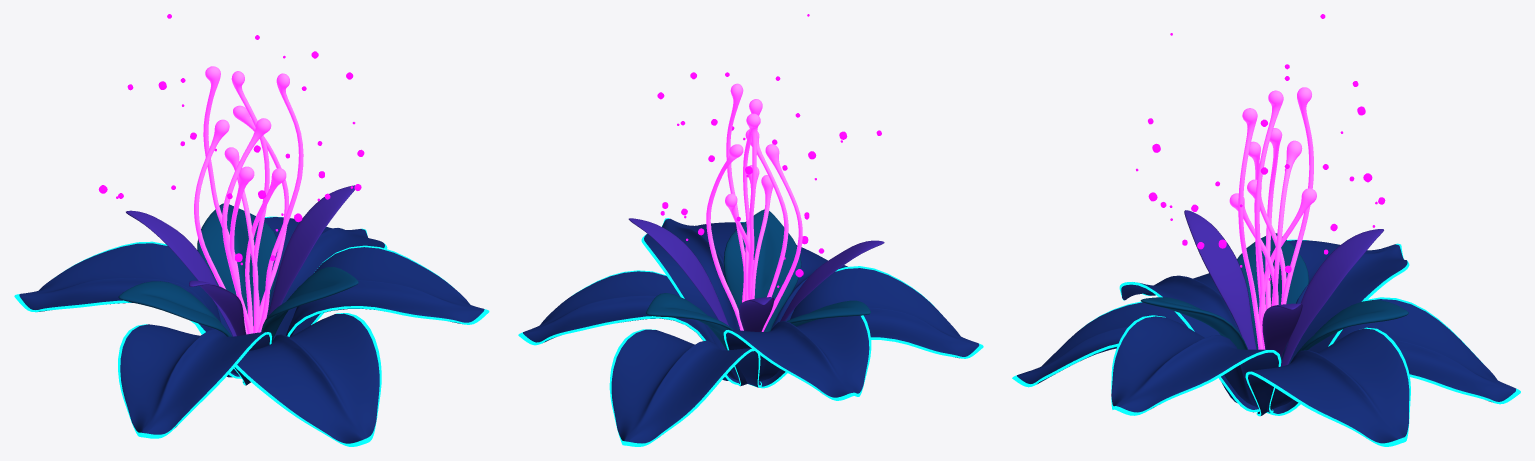
Rendered from glowing_flower.glb.
The picture shows the model from 3 angles, left to right: view 1: azimuth 30°, elevation 25°; view 2: azimuth 150°, elevation 25°; view 3: azimuth 270°, elevation 25°; orthographic projection. The views are drawn at different scales.
Parts seen in each view (by area): view 1: Plane_Material.004_0, Vert.001_Material.001_0, Plane_Material.005_0, Sphere.003; view 2: Plane_Material.004_0, Vert.001_Material.001_0, Plane_Material.005_0, Sphere.003; view 3: Plane_Material.004_0, Vert.001_Material.001_0, Plane_Material.005_0, Sphere.003.
Boxes of the visible parts, x1=… form: Plane_Material.004_0: x1=19, y1=185, x2=484, y2=443; Vert.001_Material.001_0: x1=194, y1=66, x2=303, y2=334; Plane_Material.005_0: x1=14, y1=216, x2=489, y2=446; Sphere.003: x1=98, y1=14, x2=364, y2=265; Plane_Material.004_0: x1=523, y1=209, x2=979, y2=443; Vert.001_Material.001_0: x1=706, y1=83, x2=802, y2=331; Plane_Material.005_0: x1=518, y1=218, x2=983, y2=446; Sphere.003: x1=657, y1=14, x2=881, y2=287; Plane_Material.004_0: x1=1017, y1=210, x2=1515, y2=443; Vert.001_Material.001_0: x1=1229, y1=87, x2=1316, y2=349; Plane_Material.005_0: x1=1012, y1=239, x2=1520, y2=446; Sphere.003: x1=1136, y1=14, x2=1385, y2=280.
Bounding box in the file's own units: 5.64 × 5.4 × 6.74.
4 materials, 4 textured.
